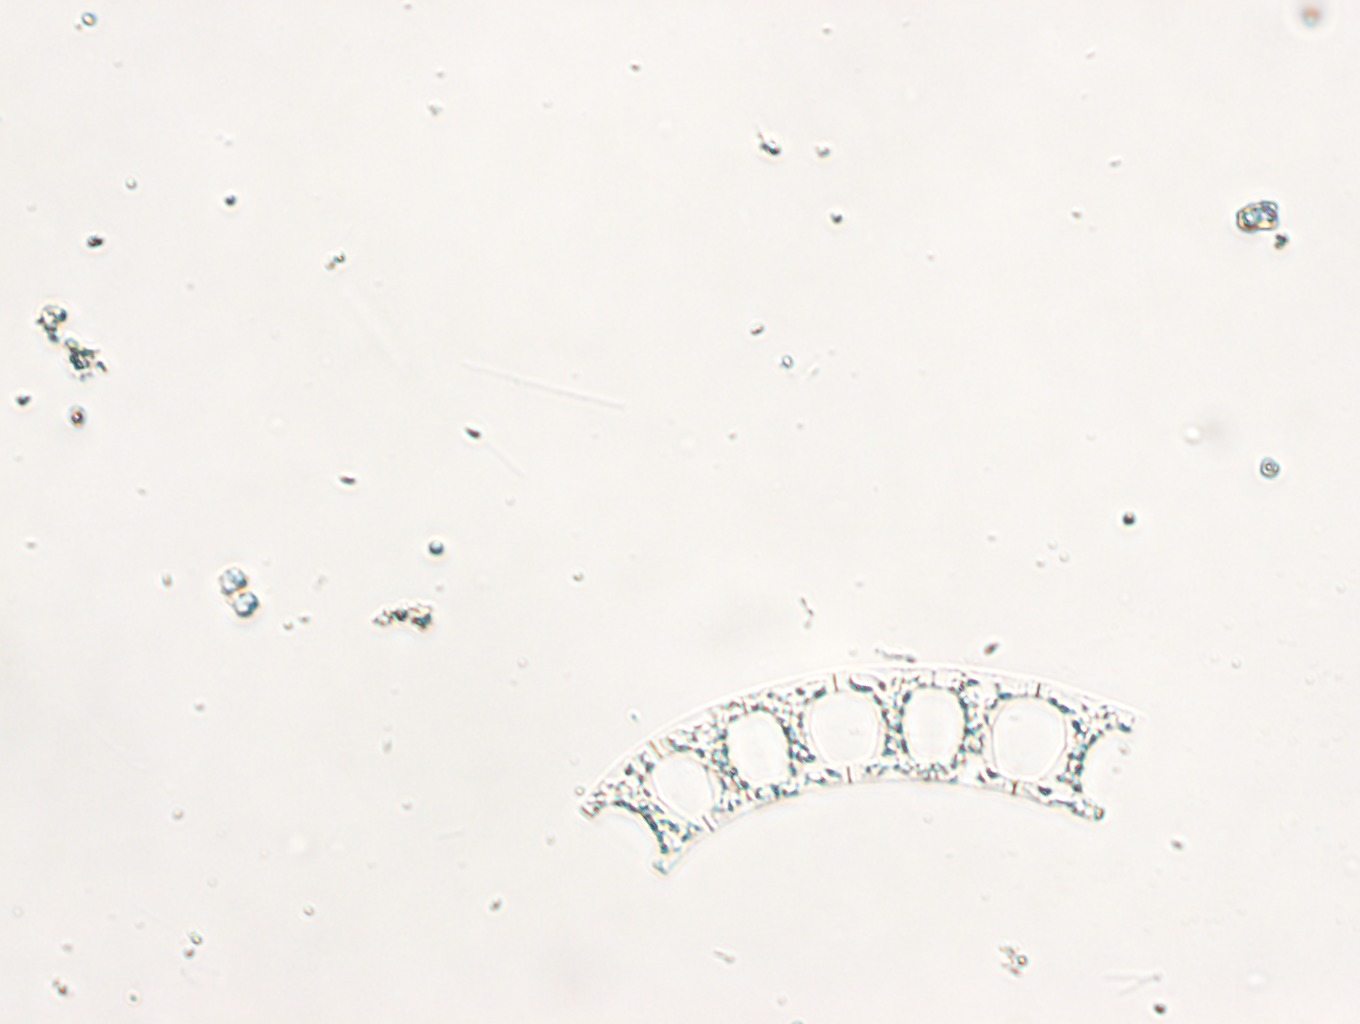eucampia: (575, 663, 1143, 881)
